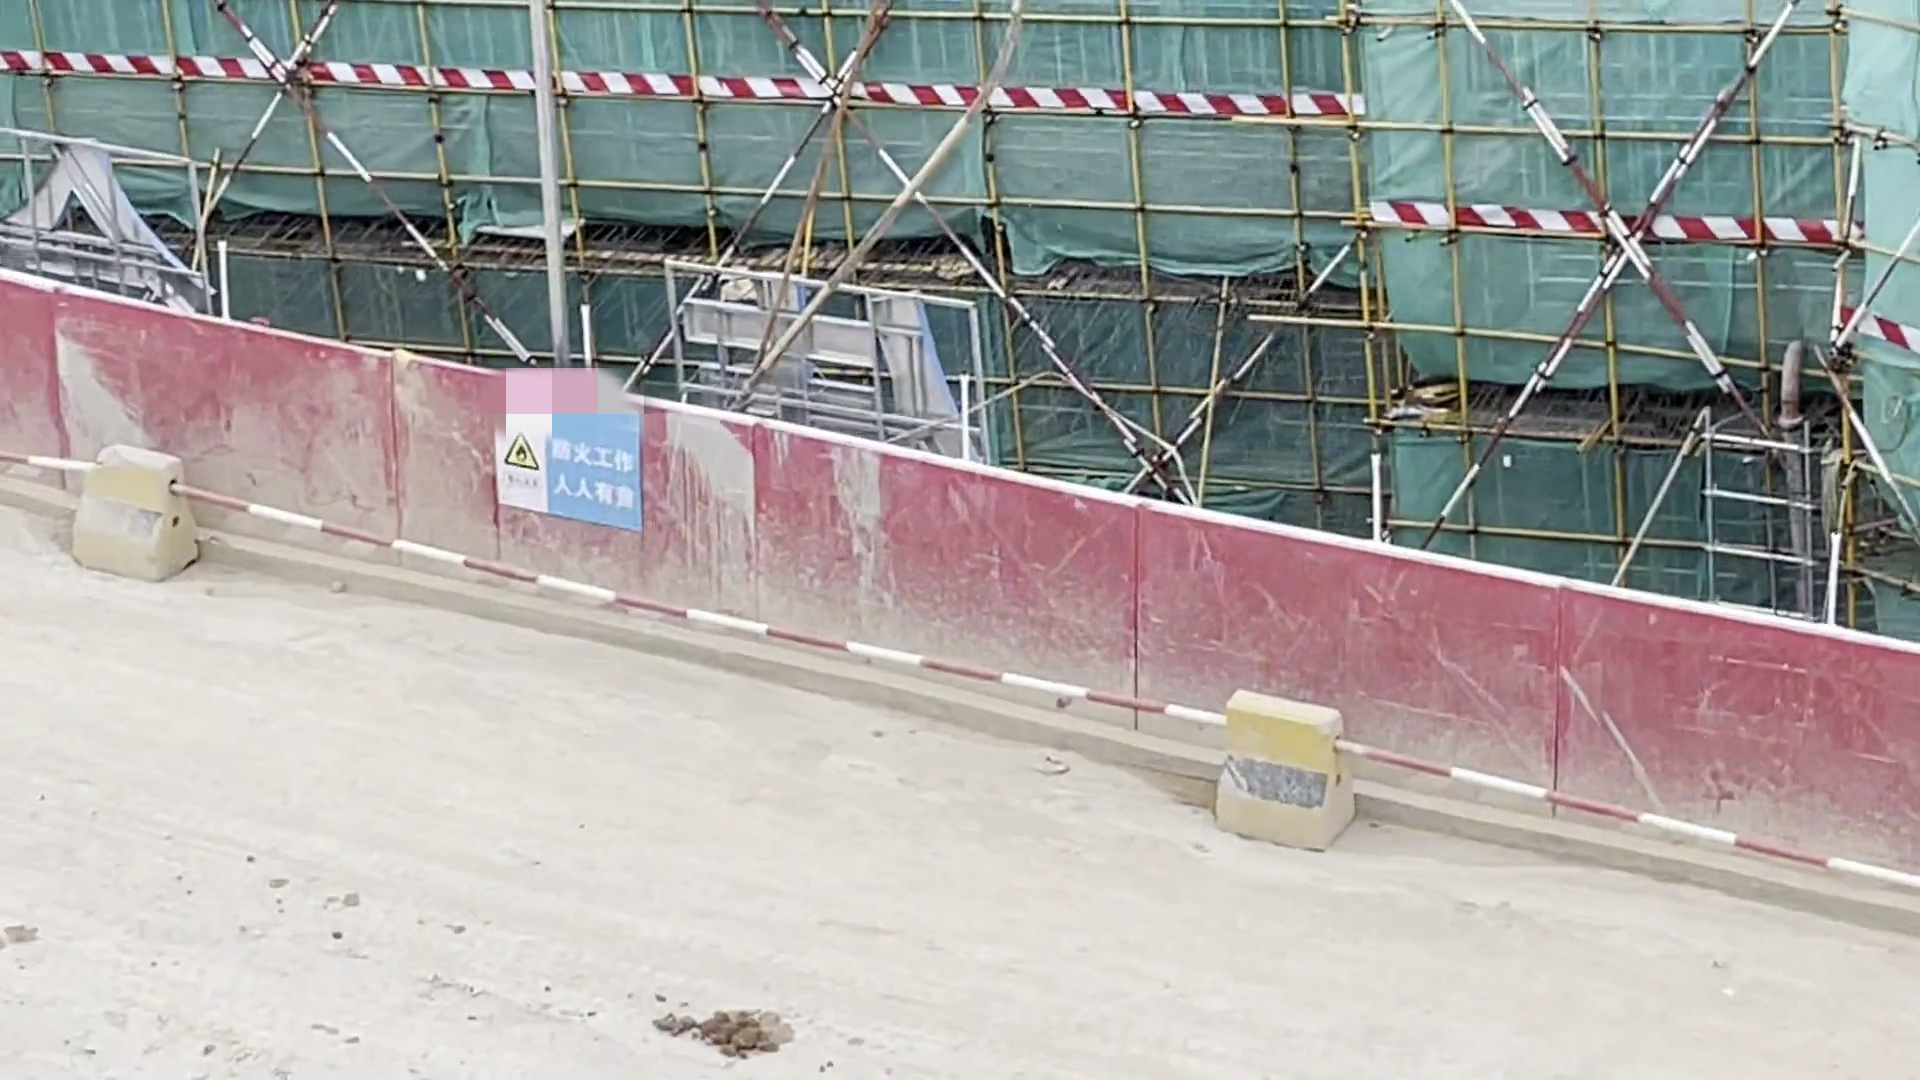fence: (3, 253, 1845, 889)
slogan: (458, 404, 629, 516)
